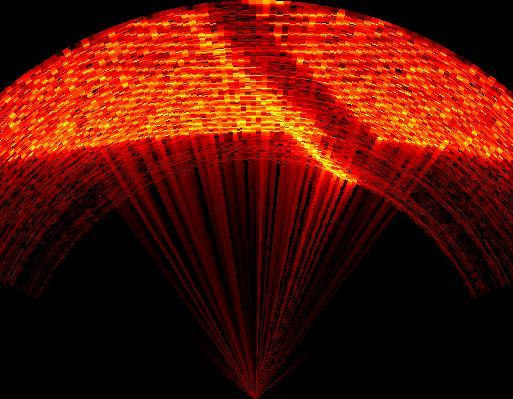pipe: (204, 0, 381, 175)
